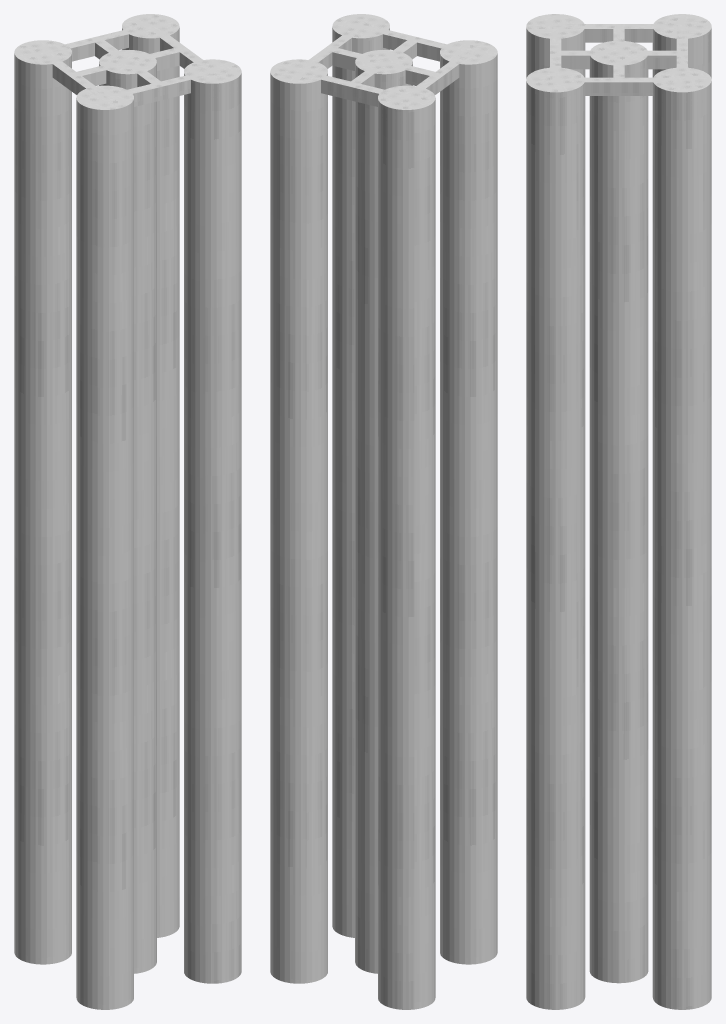
Rendered from MainPlatform.glb.
3 renders of one model, left to right at view 1: azimuth 30°, elevation 25°; view 2: azimuth 150°, elevation 25°; view 3: azimuth 270°, elevation 25°, orthographic.
Parts seen in each view (by area): view 1: MainPlatform; view 2: MainPlatform; view 3: MainPlatform.
Part boxes in pixels (bbox=[...]): MainPlatform: bbox=[14, 14, 241, 1009]; MainPlatform: bbox=[270, 14, 497, 1009]; MainPlatform: bbox=[526, 14, 711, 1009].
Size of the model in its own units: 36.65 by 200 by 36.65.
Materials: 1 (1 with a texture image).
